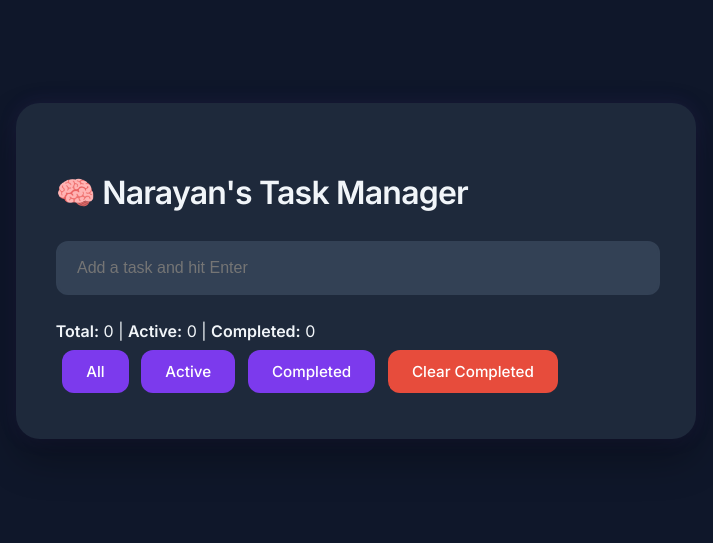
App core flows › clears completed tasks
This screenshot has width=713, height=543.
In the field with placeholder "Add a task and hit Enter": (358, 268) [56, 241, 660, 295], type "A"
Then press Enter
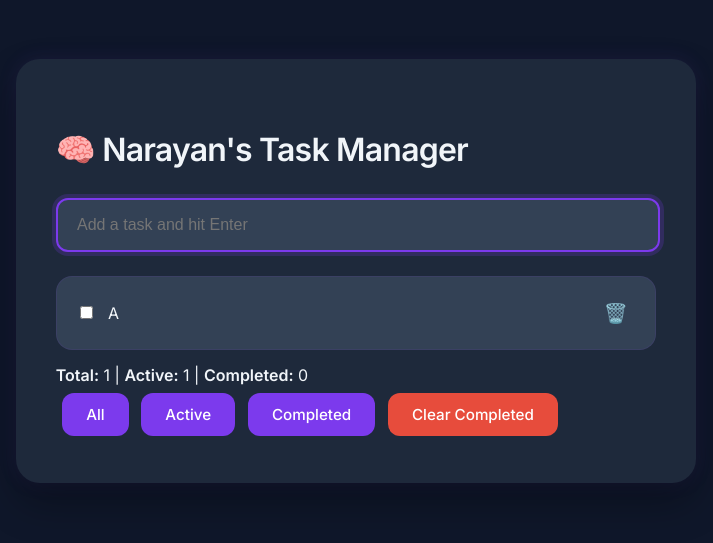
In the field with placeholder "Add a task and hit Enter": (358, 225) [56, 198, 660, 252], type "B"
Then press Enter
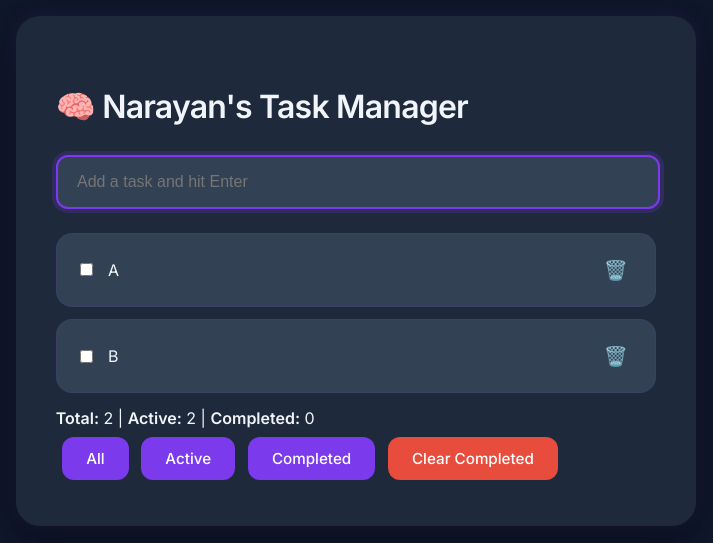
Click the checkbox labelled "B": (86, 356) [80, 350, 93, 363]
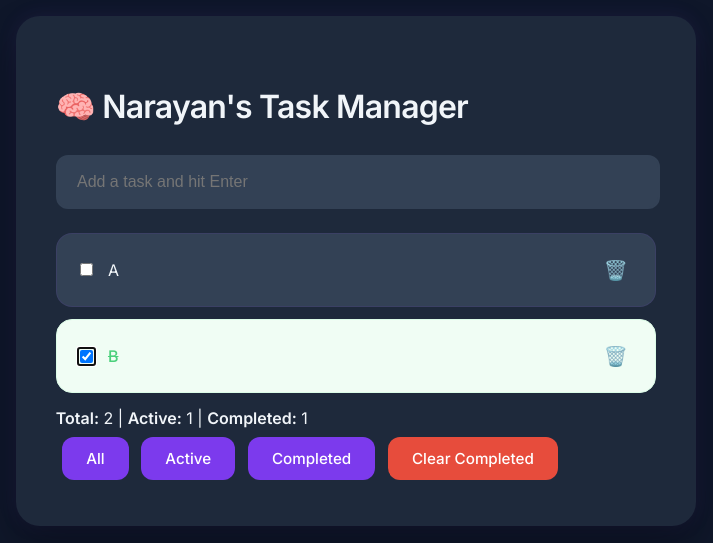
Result: the checkbox labelled "B" is checked at [80, 350, 93, 363]
Click the button "Clear Completed": (473, 458) [388, 437, 558, 480]
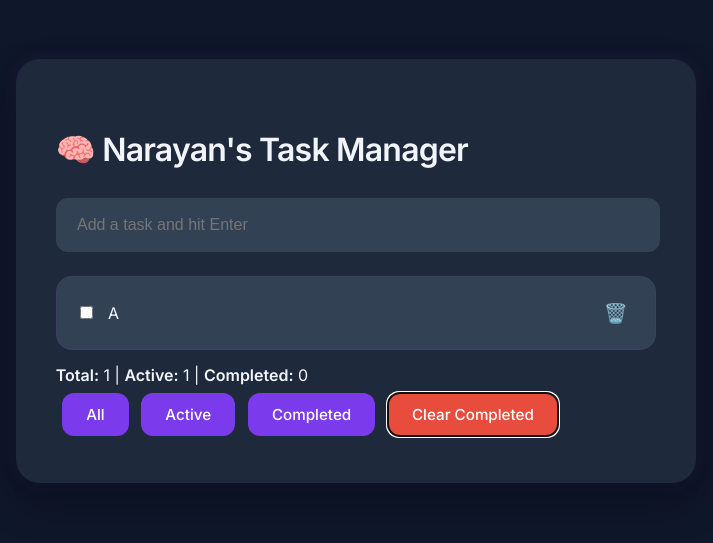
Result: the text "A" is shown at [108, 301, 119, 325]
Result: the text "B" is gone
